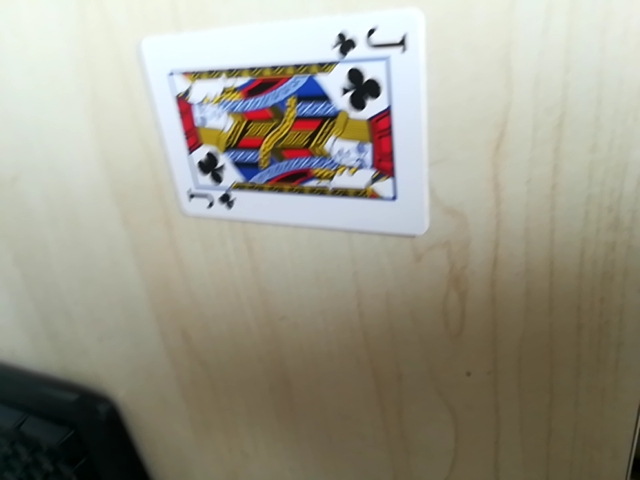mh j: (335, 23, 410, 61), (178, 178, 235, 217)
